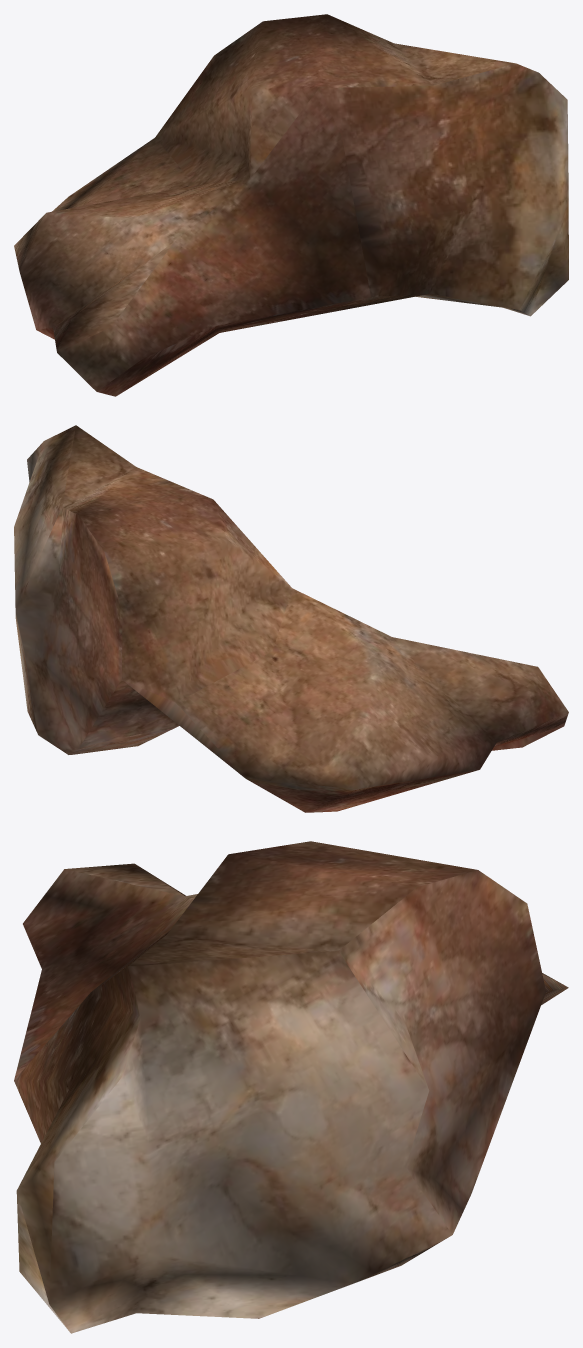
File: stone_01.glb
3 renders of one model, top to bottom at view 1: azimuth 30°, elevation 25°; view 2: azimuth 150°, elevation 25°; view 3: azimuth 270°, elevation 25°, orthographic. The views are drawn at different scales.
Visible parts, largest first — view 1: stone_01; view 2: stone_01; view 3: stone_01.
Boxes of the visible parts, left/top/right/bottom form: stone_01: left=14, top=14, right=568, bottom=396; stone_01: left=14, top=425, right=568, bottom=812; stone_01: left=14, top=841, right=568, bottom=1333.
Size of the model in its own units: 0.146 by 0.0693 by 0.0875.
Materials: 1 (1 with a texture image).
